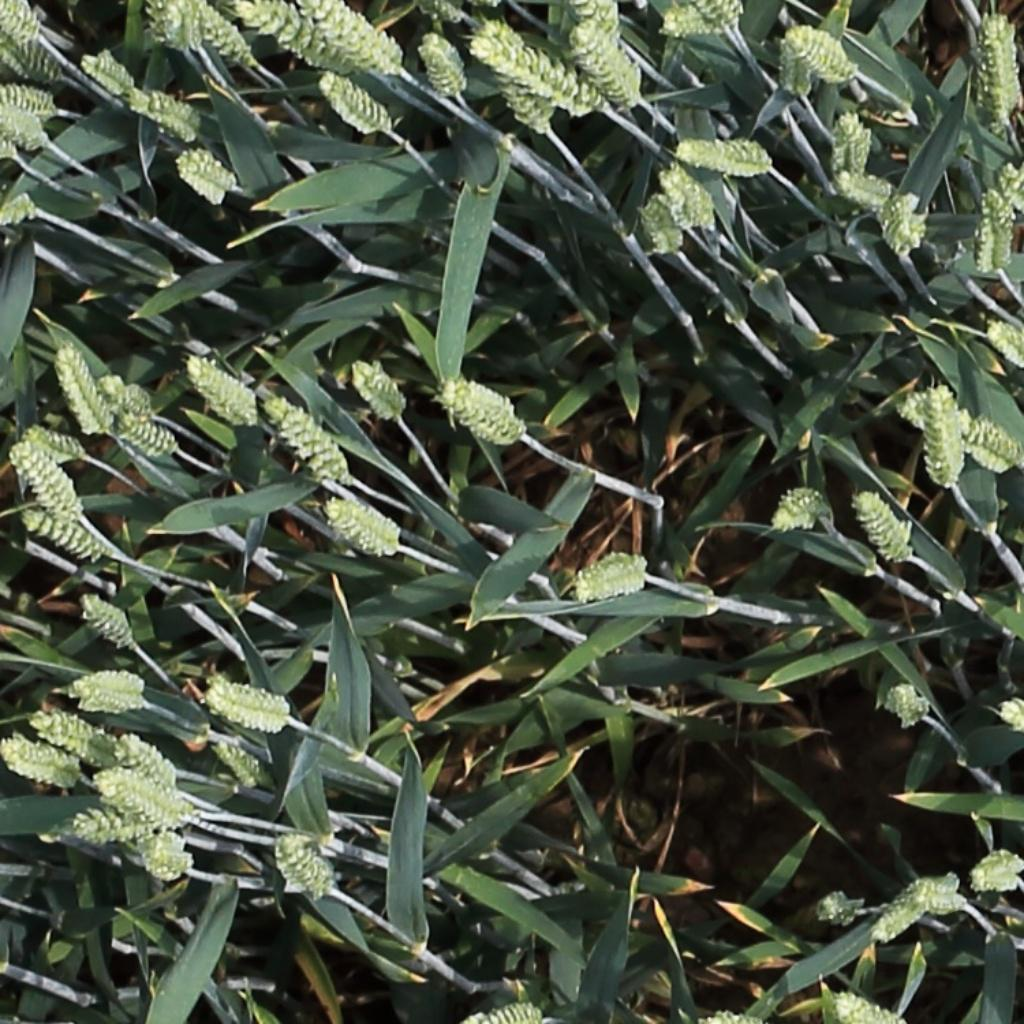0-0: (898, 372, 1024, 475), (477, 36, 604, 113), (243, 1, 371, 75), (264, 394, 352, 483), (873, 870, 968, 942), (311, 0, 404, 72), (8, 439, 83, 525), (573, 20, 645, 109), (54, 339, 113, 439), (929, 370, 977, 491), (60, 800, 182, 847), (854, 487, 917, 567), (187, 1, 259, 68), (491, 62, 555, 137), (1, 732, 81, 792), (185, 357, 259, 421), (320, 69, 394, 131), (101, 776, 192, 826), (21, 510, 106, 561), (27, 704, 107, 758), (443, 383, 521, 438), (275, 835, 335, 903), (114, 735, 178, 797), (985, 13, 1019, 128), (349, 356, 409, 421), (663, 159, 715, 234), (578, 548, 654, 598), (136, 836, 210, 884), (419, 31, 469, 102), (787, 28, 858, 77), (326, 503, 394, 552), (79, 592, 136, 647), (126, 91, 200, 132), (643, 185, 684, 256), (675, 141, 774, 170), (207, 681, 289, 716), (212, 738, 264, 793), (980, 182, 1010, 277), (882, 187, 922, 258), (0, 34, 60, 81), (206, 696, 289, 729), (72, 679, 141, 718), (96, 372, 151, 420), (177, 150, 238, 192), (839, 103, 871, 181), (116, 416, 180, 454), (779, 28, 811, 102), (890, 679, 933, 733), (774, 488, 832, 528), (80, 53, 135, 92), (0, 98, 46, 144), (984, 318, 1024, 370), (838, 172, 901, 204), (24, 427, 86, 458), (576, 0, 621, 42), (836, 995, 901, 1024), (170, 1, 203, 55), (996, 155, 1024, 218), (0, 0, 39, 43), (468, 1006, 547, 1024), (0, 84, 54, 110), (973, 861, 1022, 887), (663, 13, 719, 35), (700, 1, 738, 31), (996, 700, 1024, 740), (972, 869, 1019, 891), (431, 0, 469, 24), (0, 111, 15, 158)
